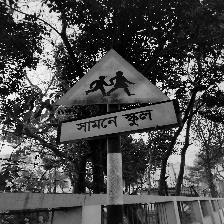School-in-front: (53, 49, 180, 145)
